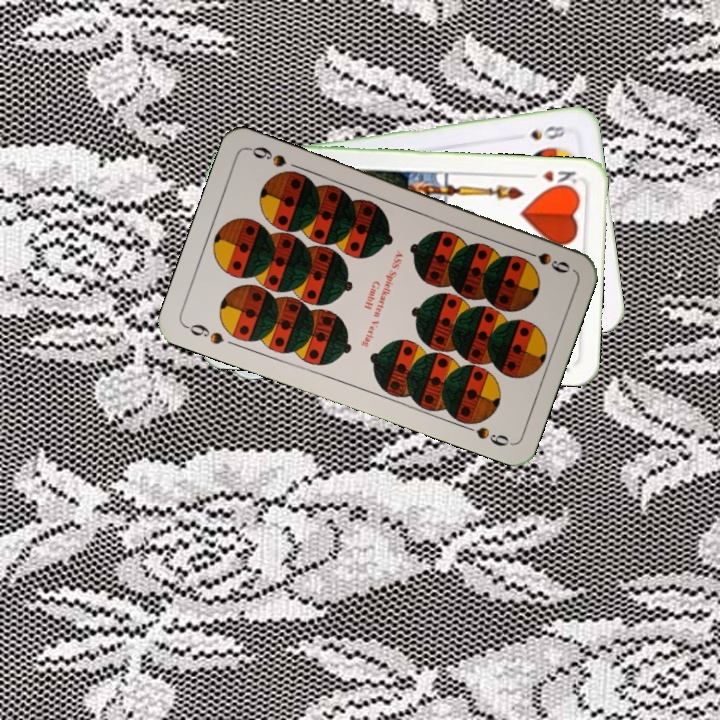HK: (523, 166, 579, 191)
S8: (527, 122, 574, 143)
S9: (516, 245, 573, 276), (181, 319, 227, 347)
